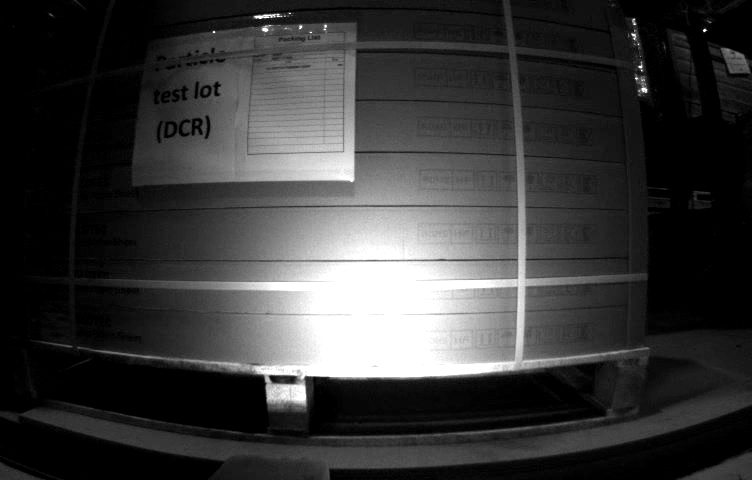True Barcode: (26, 300, 74, 346)
